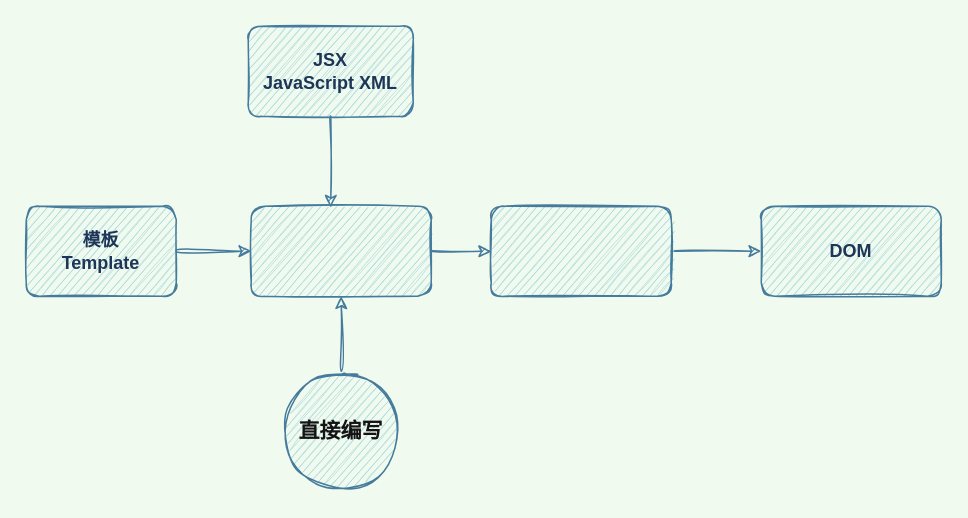
Image size: 968x518. Some labels were removed from this diagram. The shapes that lost their labels are listed below. From the top down, each one's box as (x1, y1, x2, y2) in pixels, then its label:
(250, 205, 431, 296): 渲染函数 Render
(490, 205, 671, 296): VNode
